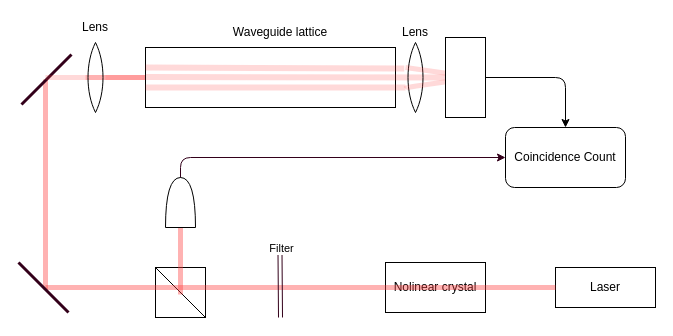
Some shapes in this 673 by 336 pixel diagram are drawn without their labels. Here are the shapes that lost their labels. From the top down, the centre of each, then its label:
At pixel 465 77: "CCD".
At pixel 180 202: "APD".
